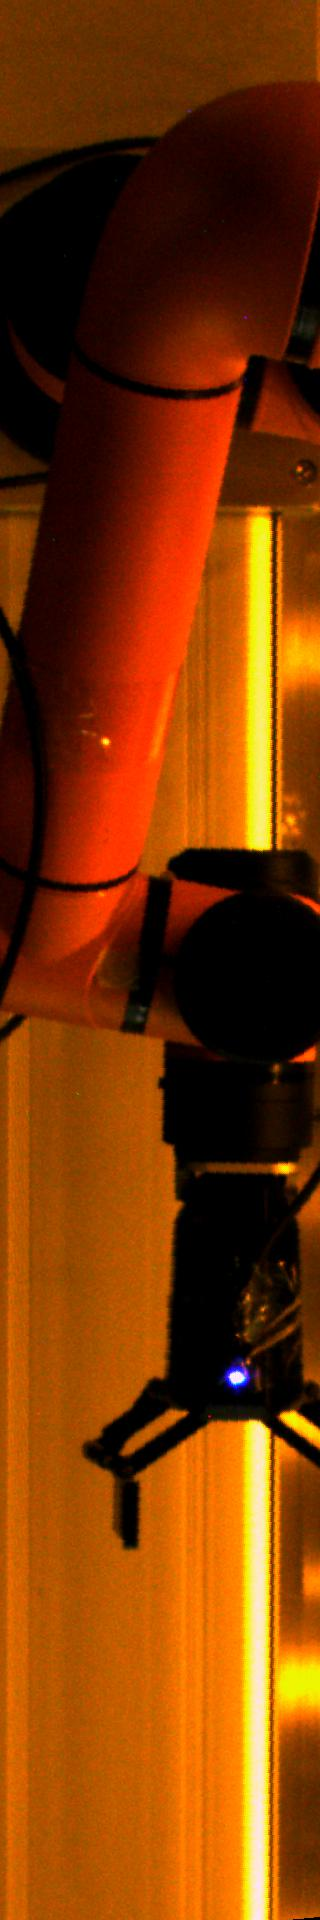keyPoint_1: (221, 1359, 251, 1389)
